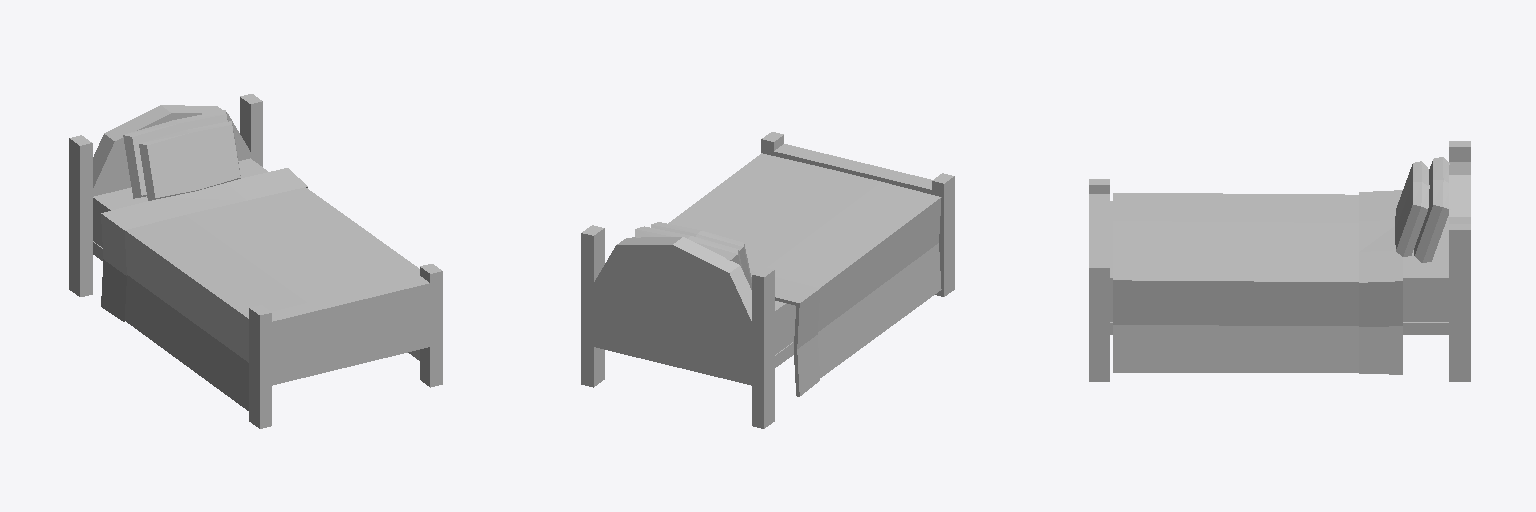
File: bed.obj
The picture shows the model from 3 angles: view 1: azimuth 30°, elevation 25°; view 2: azimuth 150°, elevation 25°; view 3: azimuth 270°, elevation 25°; orthographic projection.
Parts seen in each view (by area): view 1: Bed_01_Cube.044; view 2: Bed_01_Cube.044; view 3: Bed_01_Cube.044.
Boxes of the visible parts, box(x1,y1,x2,y2) form: Bed_01_Cube.044: box(69, 94, 442, 428); Bed_01_Cube.044: box(581, 132, 954, 428); Bed_01_Cube.044: box(1089, 141, 1470, 381).
Size of the model in its own units: 11.98 by 9.94 by 21.16.